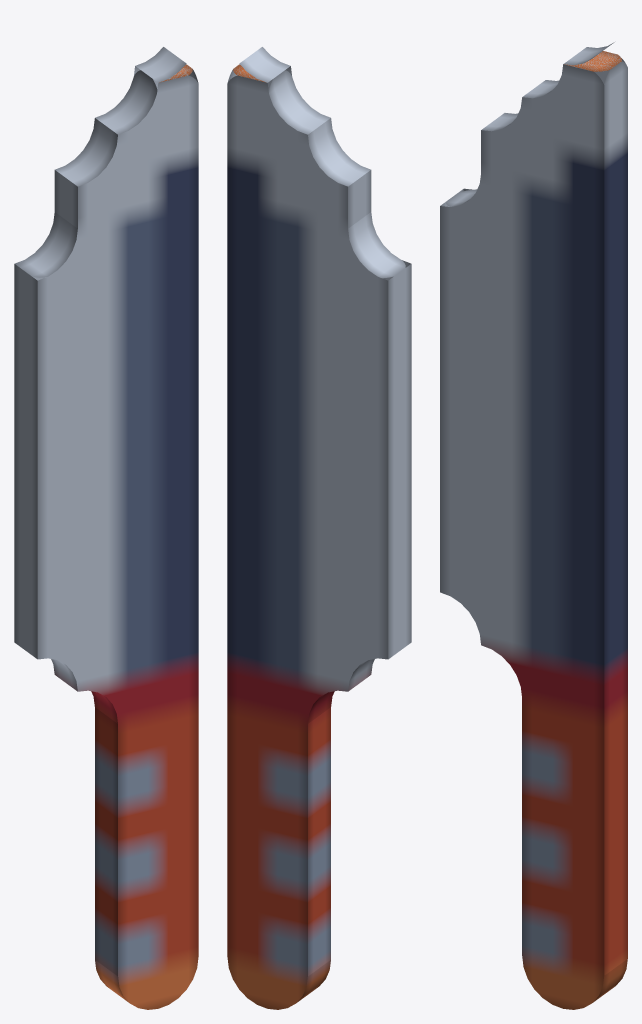
Rendered from Faca3.fbx.
The picture shows the model from 3 angles, left to right: view 1: azimuth 30°, elevation 25°; view 2: azimuth 150°, elevation 25°; view 3: azimuth 330°, elevation 25°; orthographic projection. The views are drawn at different scales.
Parts seen in each view (by area): view 1: generated; view 2: generated; view 3: generated.
Part boxes in pixels (left/top/right/bottom): generated: left=14, top=47, right=198, bottom=1009; generated: left=227, top=47, right=411, bottom=1009; generated: left=440, top=42, right=627, bottom=1009.
Bounding box in the file's own units: 4 × 23 × 1.
